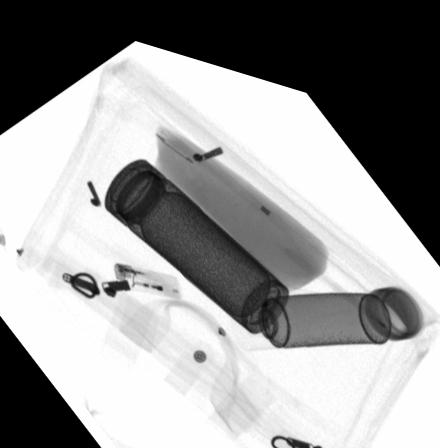Lighter: (112, 255, 180, 288)
Sprayer: (227, 271, 391, 335)
